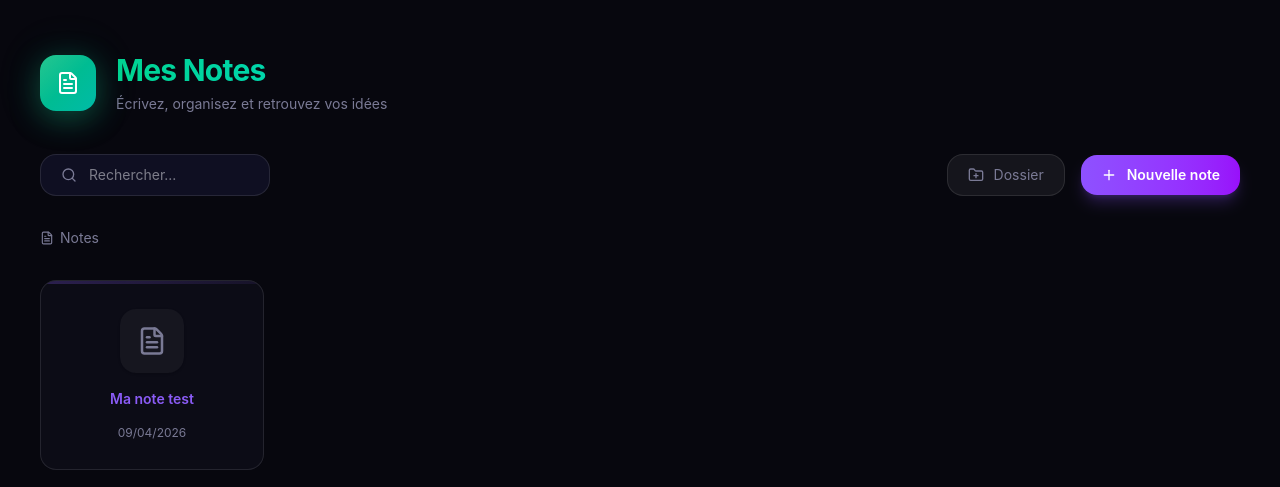
Notes - Attachments › shows paperclip button with count 0 when no attachments in editor
Double-click the 6th icon: (152, 341) x1=137 y1=326 x2=167 y2=356
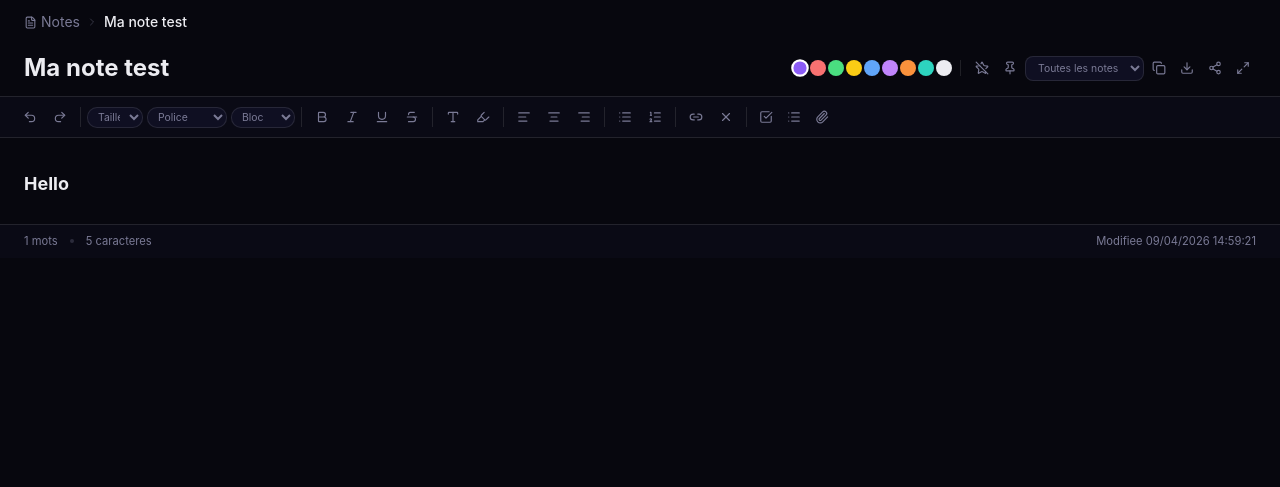
Expected: the button titled "Pièces jointes (0)" is shown, x1=809 y1=103 x2=835 y2=131
